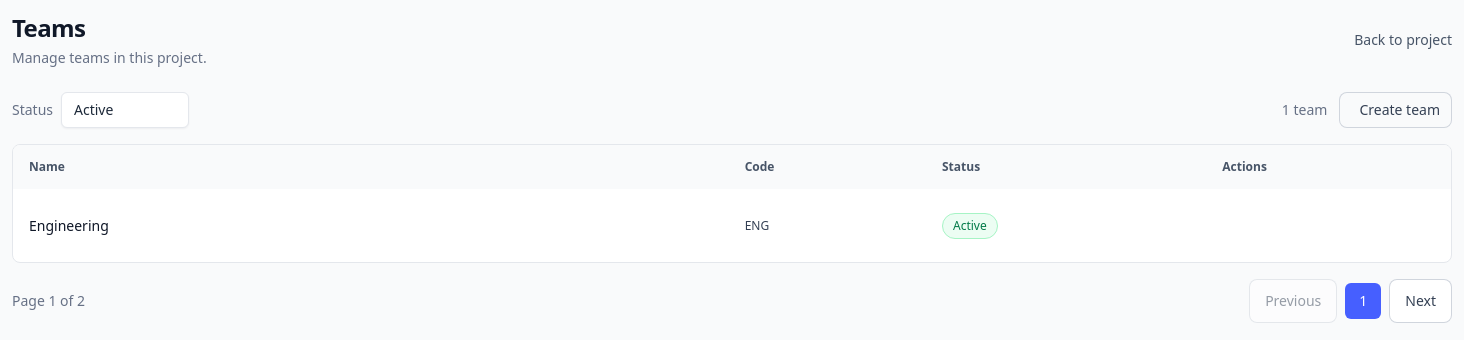
Test: uses the current directory status read to gate management
The image size is (1464, 340).
Expected: the button "Create team" is shown, [1339,92,1452,128]
Select "All teams" in the dropdown labelled "Status" at {"x": 125, "y": 110}, box [61,92,189,128]
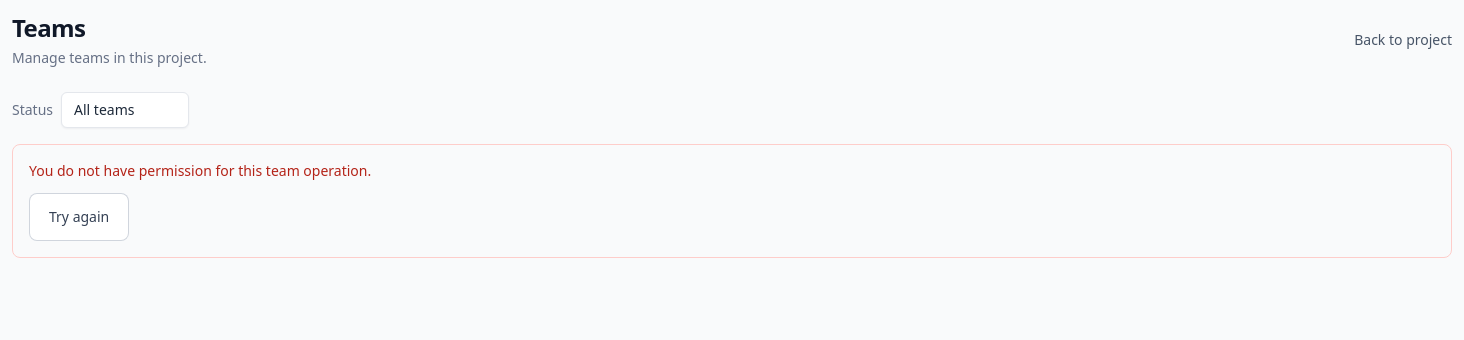
Now the message "You do not have permission for this team operation. Try again" is shown, box [12,144,1452,258]
Now the button "Create team" is gone
